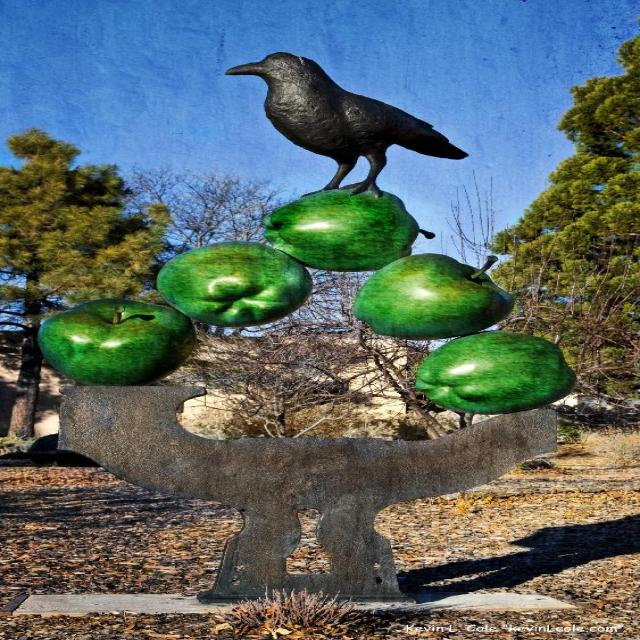Healty Apple: (412, 326, 578, 416), (264, 189, 441, 273), (353, 248, 515, 338), (153, 242, 320, 329), (24, 299, 184, 383)
